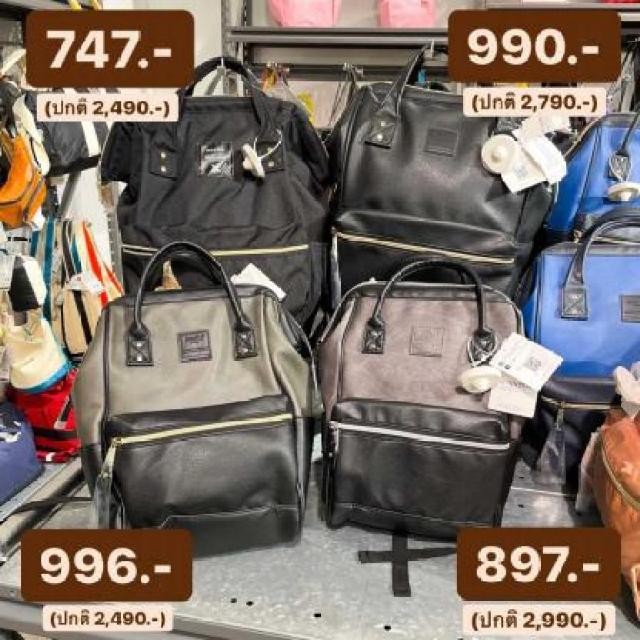Bag: (63, 227, 334, 558), (297, 255, 558, 551), (101, 61, 333, 312), (340, 31, 538, 277)
